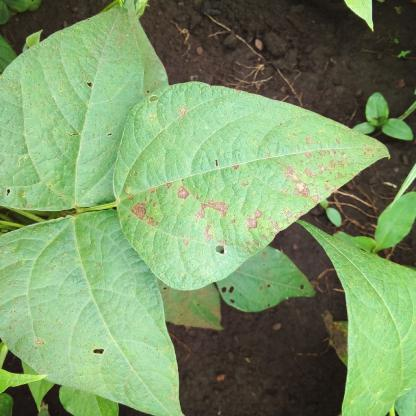Beans_Angular_LeafSpot: (106, 84, 385, 291), (0, 0, 168, 212), (216, 248, 320, 312)
